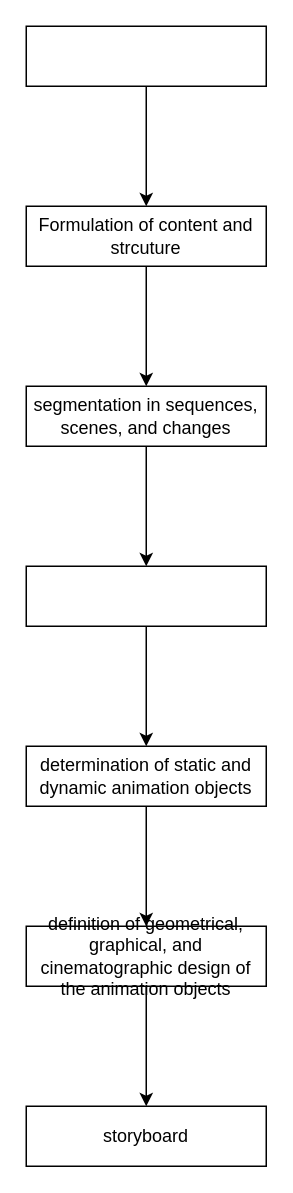
This 293x1193 diagram has some shape labels left out. The shapes that lost their labels are listed below. From the top down, each one's centre as x and y in pixels, then its label:
At pixel 145 55: "Theme/audience/fuction".
At pixel 145 595: "definition of key scenes".
